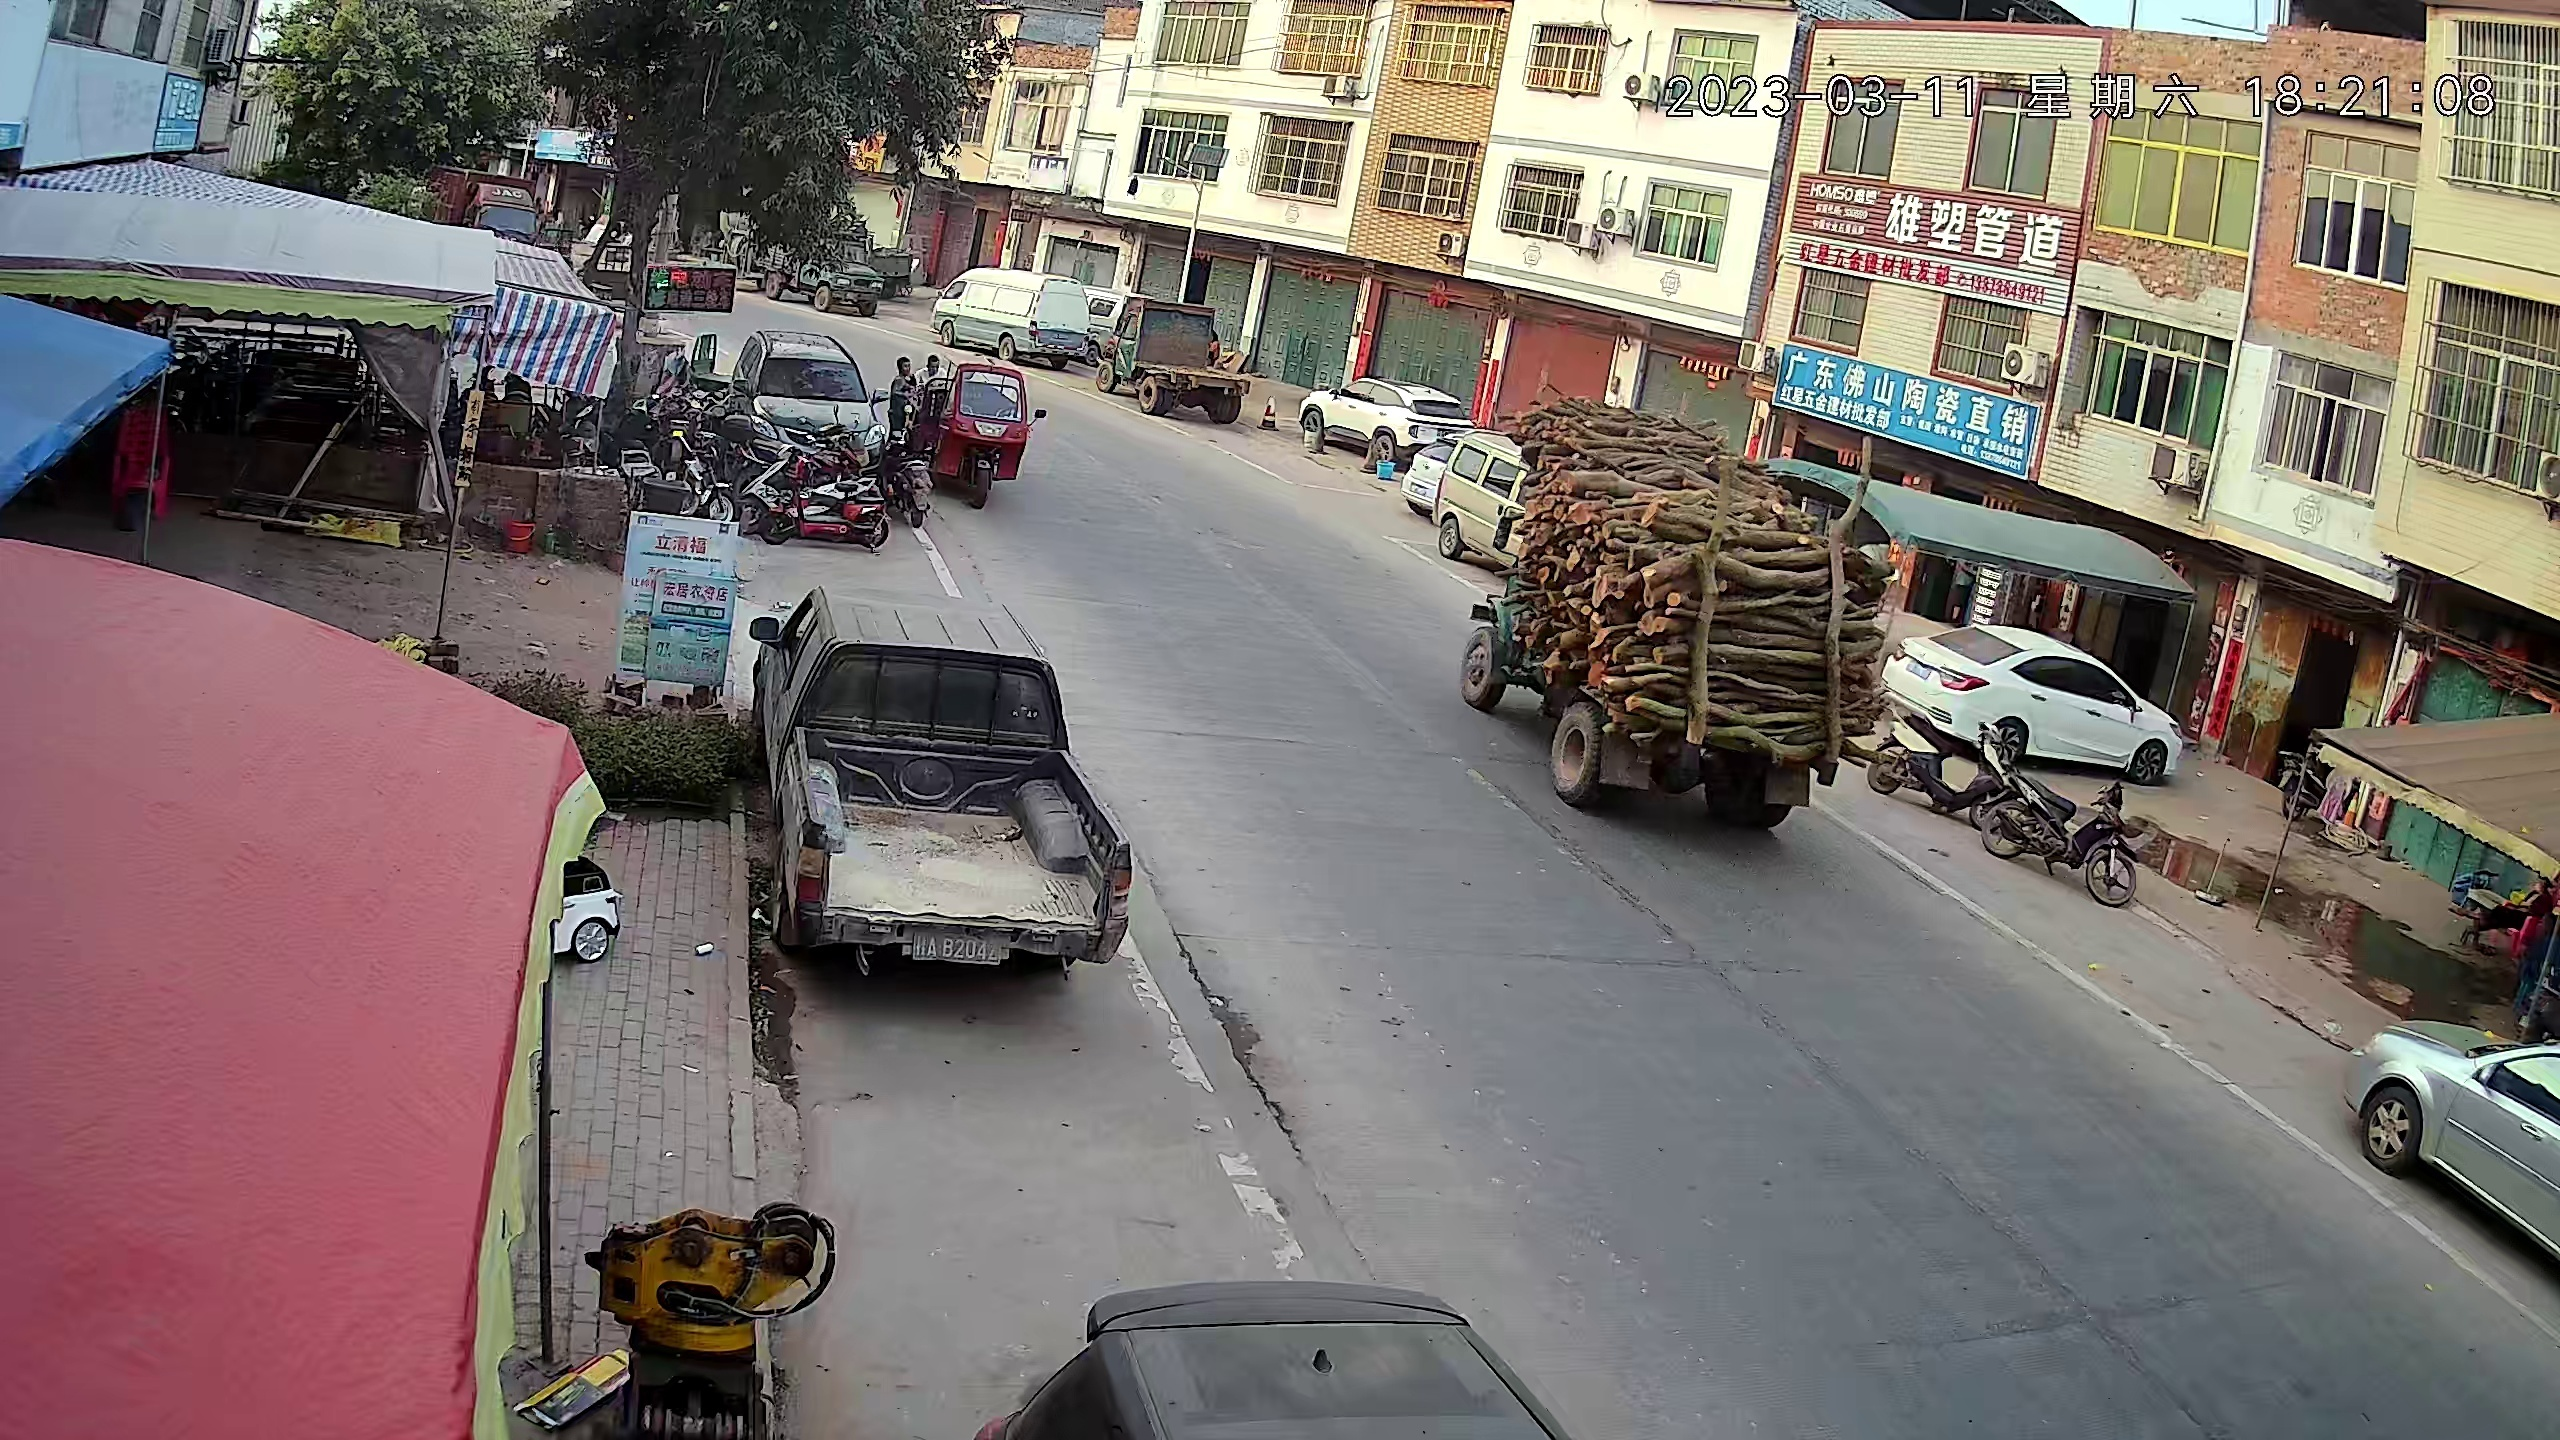head: (919, 352, 943, 385)
motorcycle: (1988, 767, 2139, 900), (1883, 713, 2009, 827), (769, 458, 884, 548), (643, 417, 730, 493), (884, 430, 933, 524), (2277, 732, 2327, 818)
person: (883, 353, 918, 423)
pickup: (747, 582, 1137, 988)
sedan: (982, 1277, 1575, 1440), (2352, 1012, 2560, 1277), (1892, 615, 2188, 783)
suv: (734, 330, 874, 449), (1304, 374, 1453, 468)
tricycle: (1107, 299, 1245, 424), (934, 367, 1033, 509)
truck: (1484, 412, 1869, 834), (934, 263, 1090, 368), (772, 223, 880, 317), (440, 162, 543, 239)
van: (1443, 434, 1538, 573)
